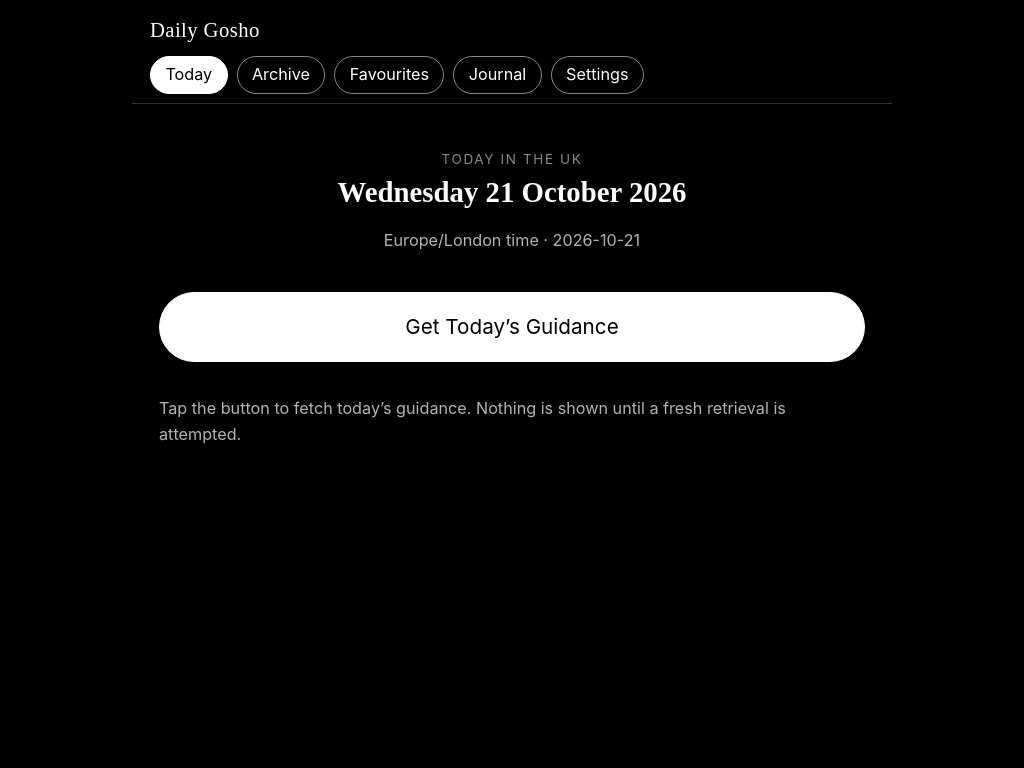
Scenario: favourites, journal and settings › saves goals and uses them in the personal application
The width and height of the screenshot is (1024, 768).
Step 1. Click the button "Settings" → (597, 75), box [551,56,644,94]
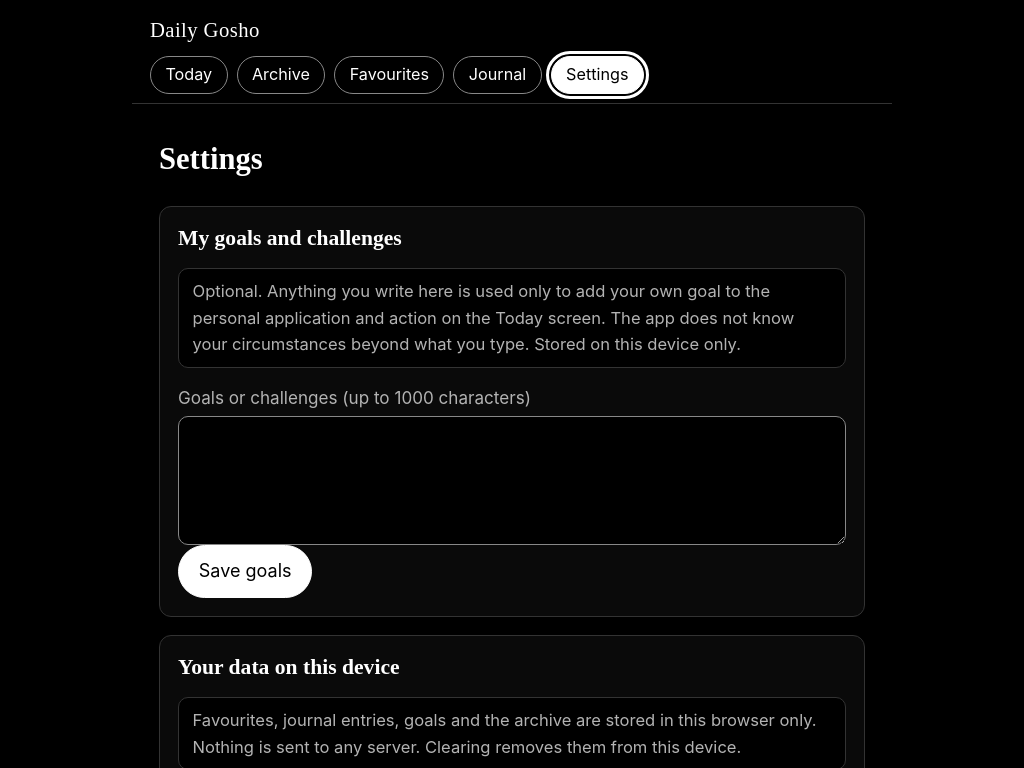
Step 2. Type "Be more patient at work" into the text box labelled "Goals or challenges (up to 1000 characters)" → (512, 481), box [178,416,846,545]
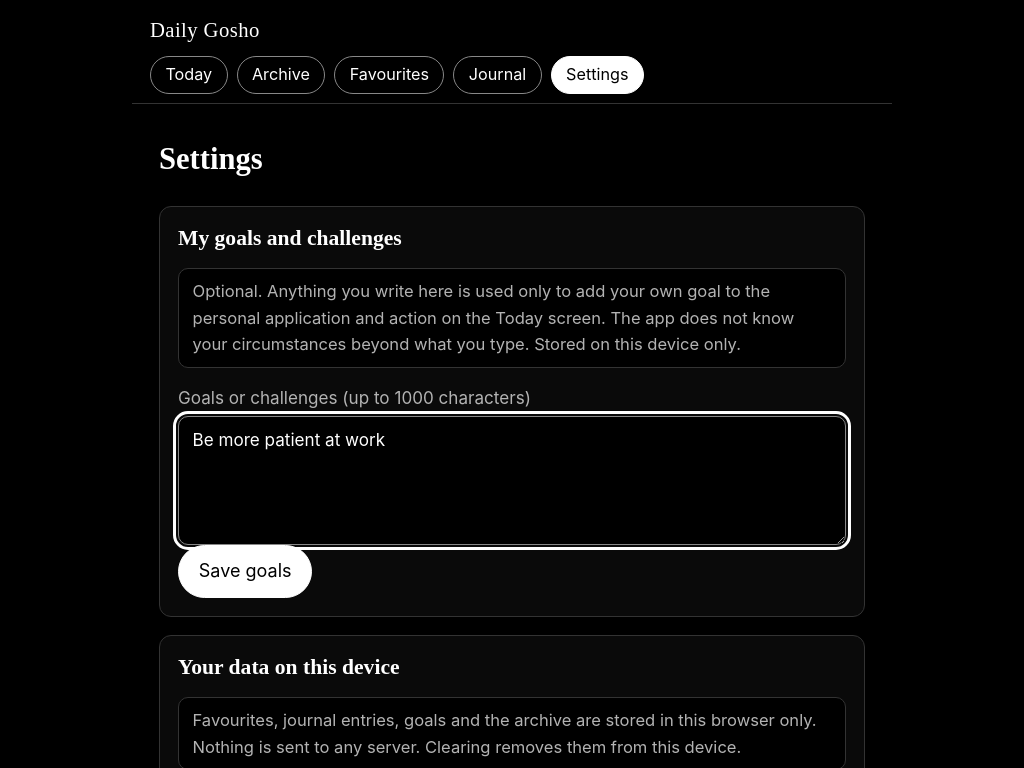
Step 3. Click the button "Save goals" → (245, 572), box [178,545,312,598]
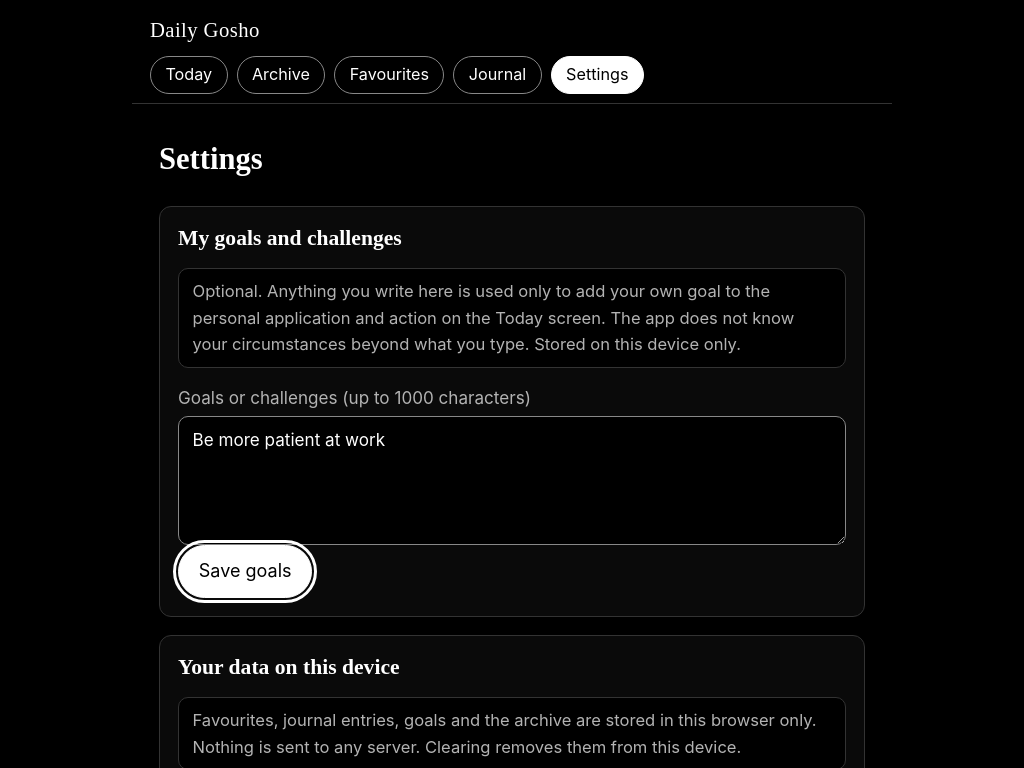
Step 4. Click the button "Today" → (189, 75), box [150,56,228,94]
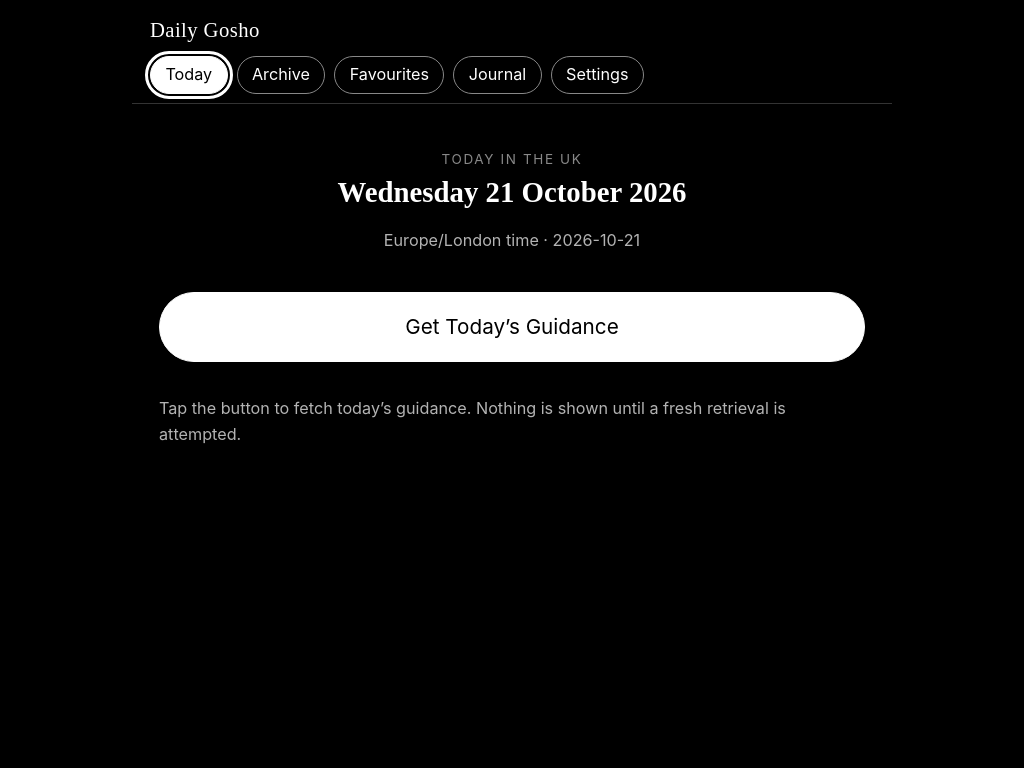
Step 5. Click the button "Get Today’s Guidance" → (512, 327), box [159,292,865,362]
(page scrolled)
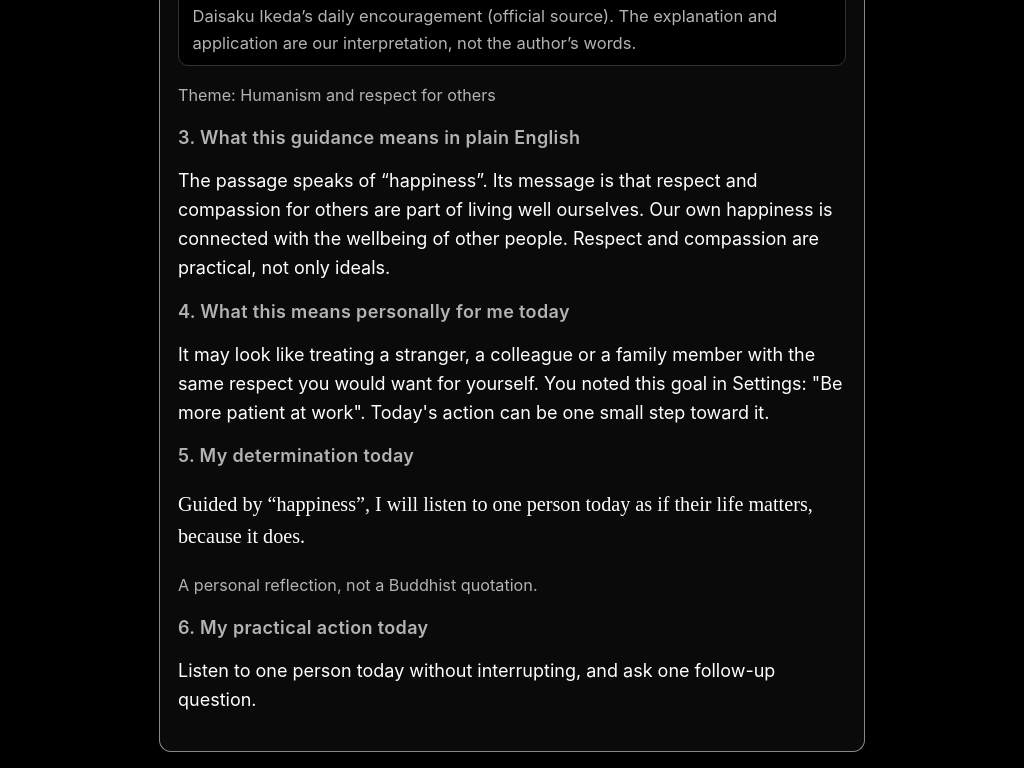
Result: the text "Be more patient at work" is shown at [178,344,842,423]
